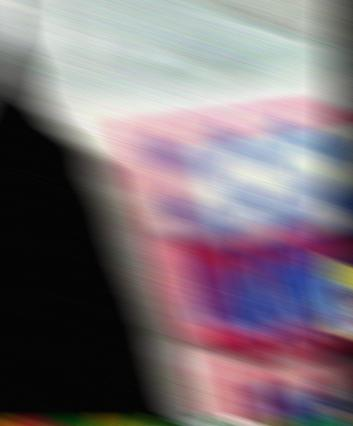Datu puti Suka: (0, 420, 352, 426)
Sugar: (0, 0, 352, 426)
ketchup UFC: (334, 257, 353, 397)
sprite: (334, 420, 353, 426)
